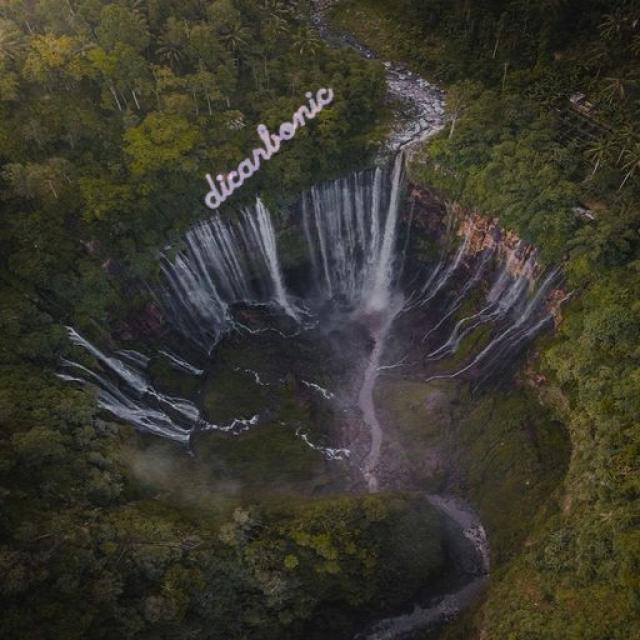watermark: (202, 62, 334, 215)
